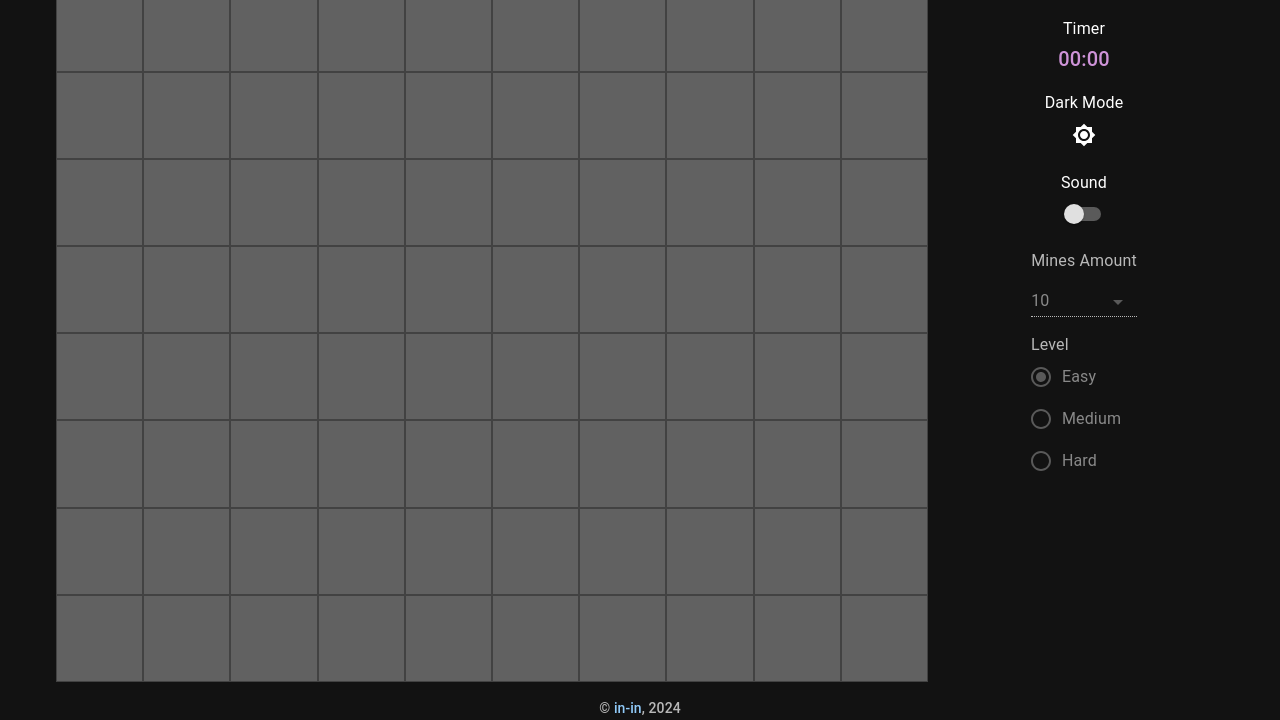
it: openSurroundingCells › lose with incorrect flag
(page scrolled)
Click the element with test id "8-1": (187,552) x1=143 y1=508 x2=230 y2=595
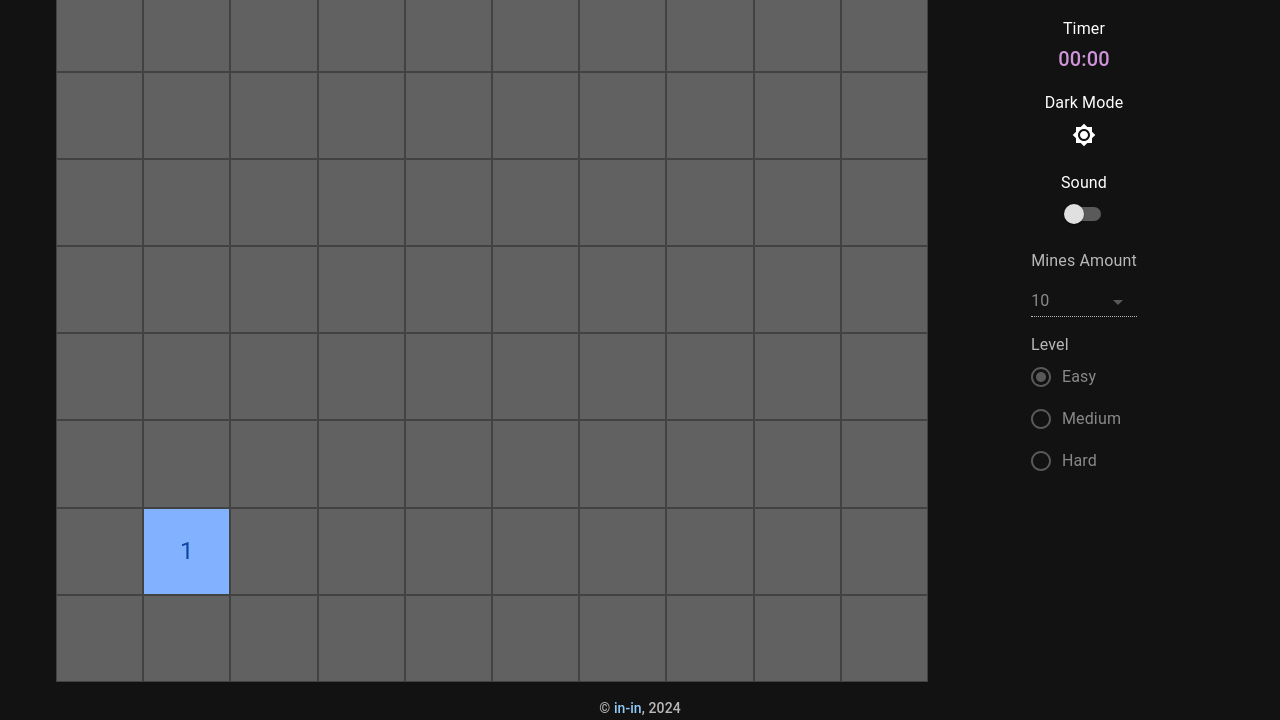
Right-click the element with test id "7-0": (100,464) x1=56 y1=420 x2=143 y2=507
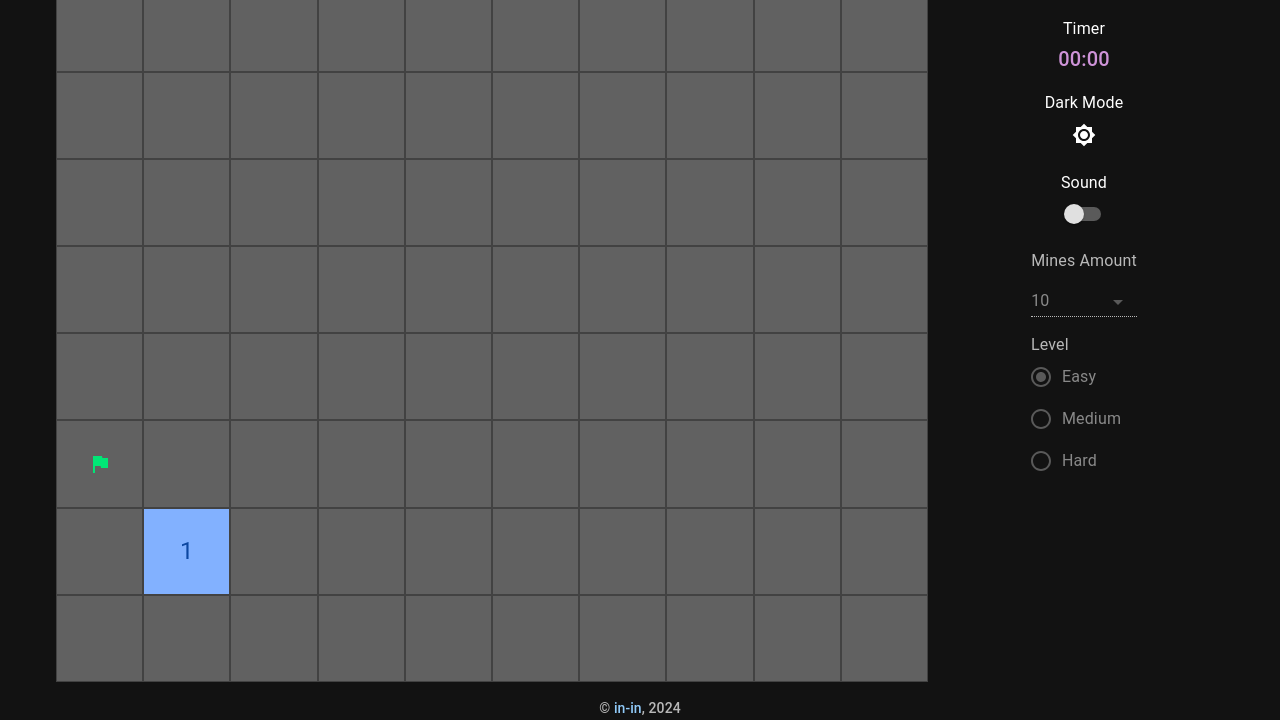
Click the text with test id "8-1": (187,552) x1=143 y1=508 x2=230 y2=595
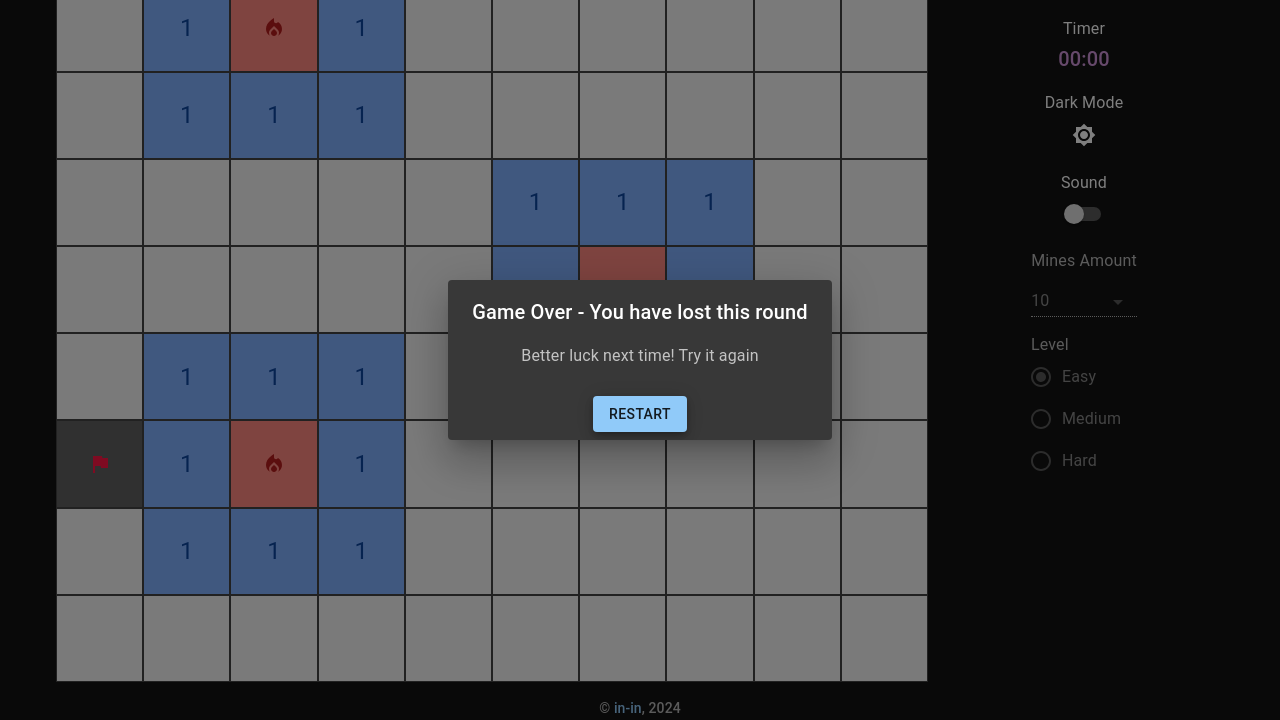
Expected: the heading with test id "dialog" reads "Game Over - You have lost this round", x1=472 y1=300 x2=807 y2=324
